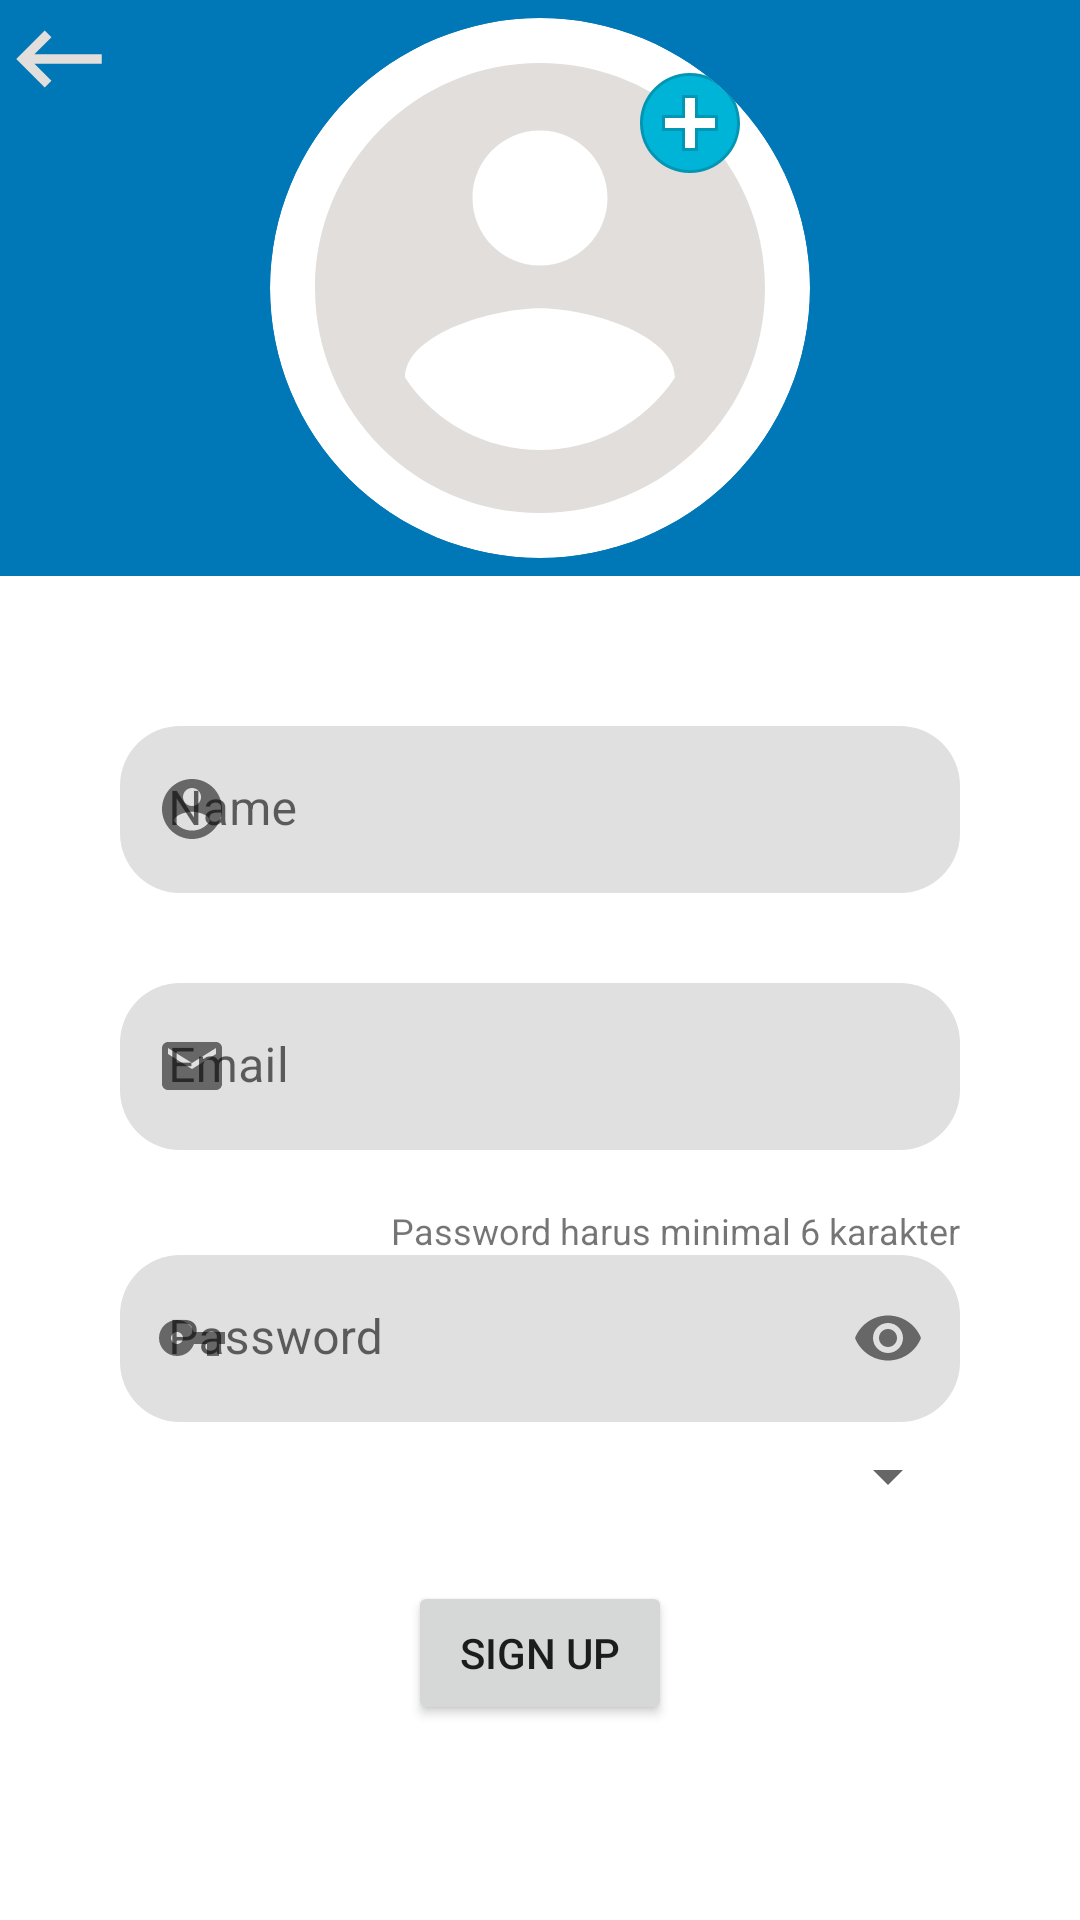

Icon click points for this 1080px×1920px phone screenshot, format (x=x, y=y):
Back Button: (x=59, y=59)
